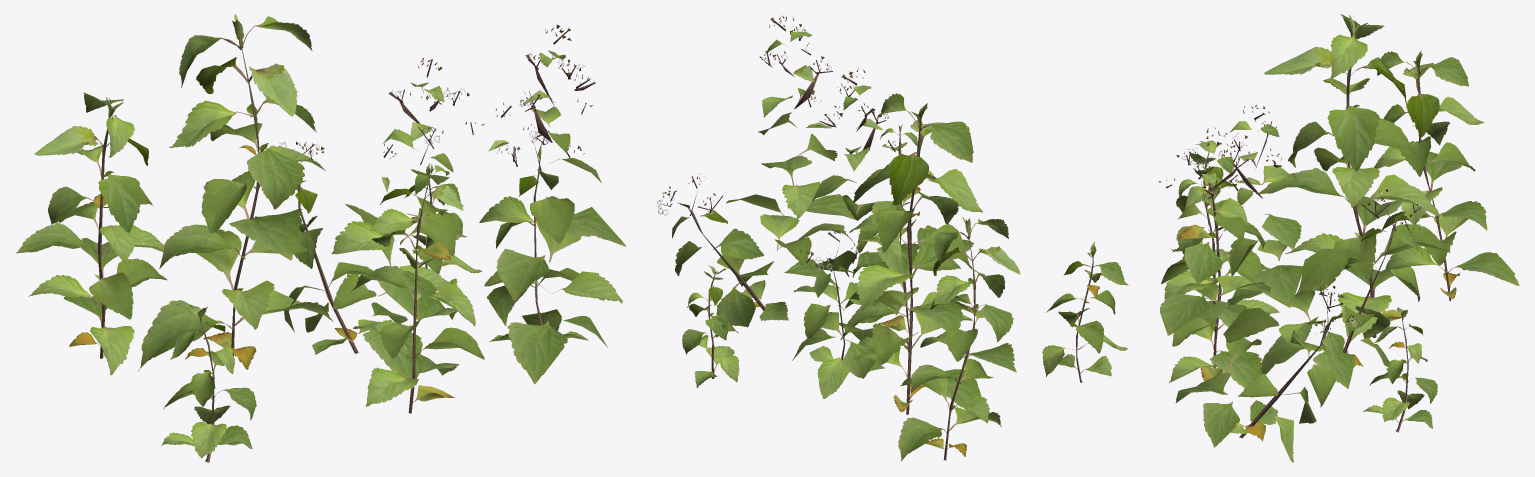
The model's file is Scan_Herbs_A.fbx.
3 renders of one model, left to right at view 1: azimuth 30°, elevation 25°; view 2: azimuth 150°, elevation 25°; view 3: azimuth 270°, elevation 25°, orthographic. The views are drawn at different scales.
Visible parts, largest first — view 1: Scan_Herbs_A_LOD0; view 2: Scan_Herbs_A_LOD0; view 3: Scan_Herbs_A_LOD0.
Boxes of the visible parts, box(x1,y1,x2,y2) form: Scan_Herbs_A_LOD0: box(15, 14, 626, 462); Scan_Herbs_A_LOD0: box(657, 16, 1128, 461); Scan_Herbs_A_LOD0: box(1158, 14, 1519, 462).
Size of what is drawn, in the model's own units: 0.8117 by 0.5794 by 0.5833.
